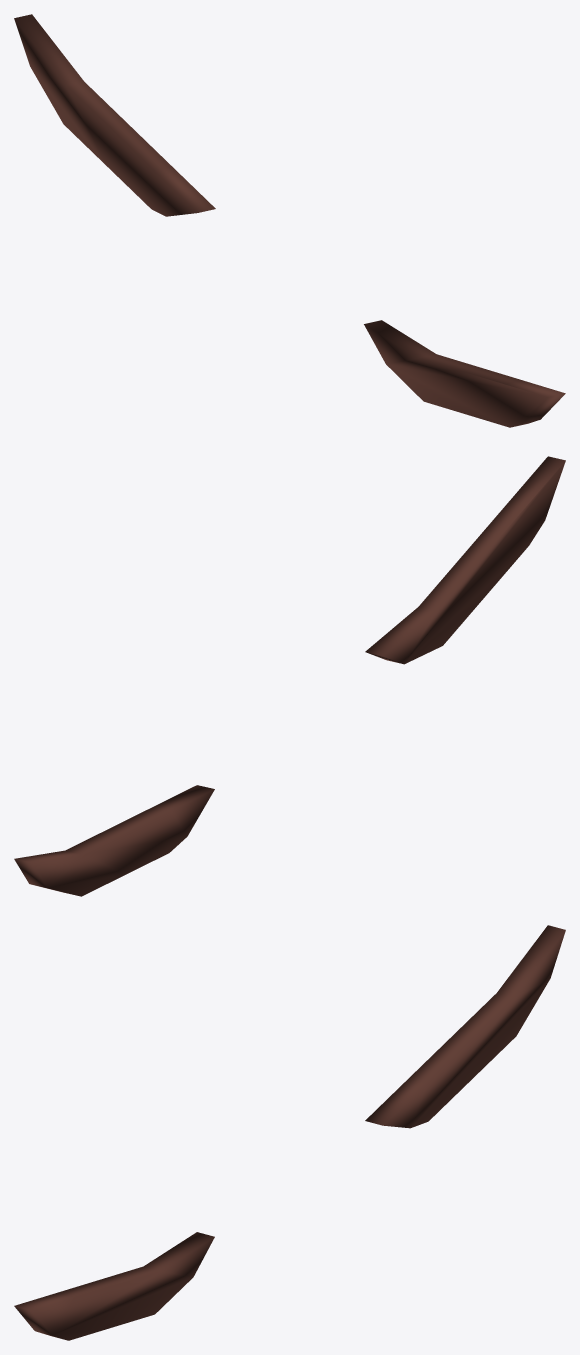
The model's file is JamieBrows.glb.
The picture shows the model from 3 angles, top to bottom: view 1: azimuth 30°, elevation 25°; view 2: azimuth 150°, elevation 25°; view 3: azimuth 330°, elevation 25°; orthographic projection.
Parts seen in each view (by area): view 1: JamieBrows; view 2: JamieBrows; view 3: JamieBrows.
Part boxes in pixels (x1,y1,x2,y2): JamieBrows: [14, 14, 565, 427]; JamieBrows: [14, 456, 565, 896]; JamieBrows: [14, 925, 565, 1340].
Bounding box in the file's own units: 0.0672 × 0.3217 × 3.05.
